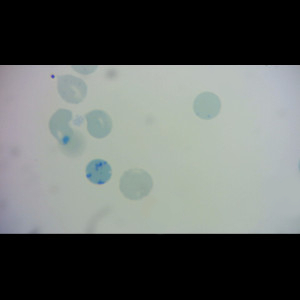aggregate reticulocyte: (84, 158, 113, 185)
erythrocyte: (117, 167, 154, 202), (48, 108, 77, 147), (84, 109, 113, 139)
punctate reticulocyte: (55, 74, 88, 105), (192, 91, 222, 121)
